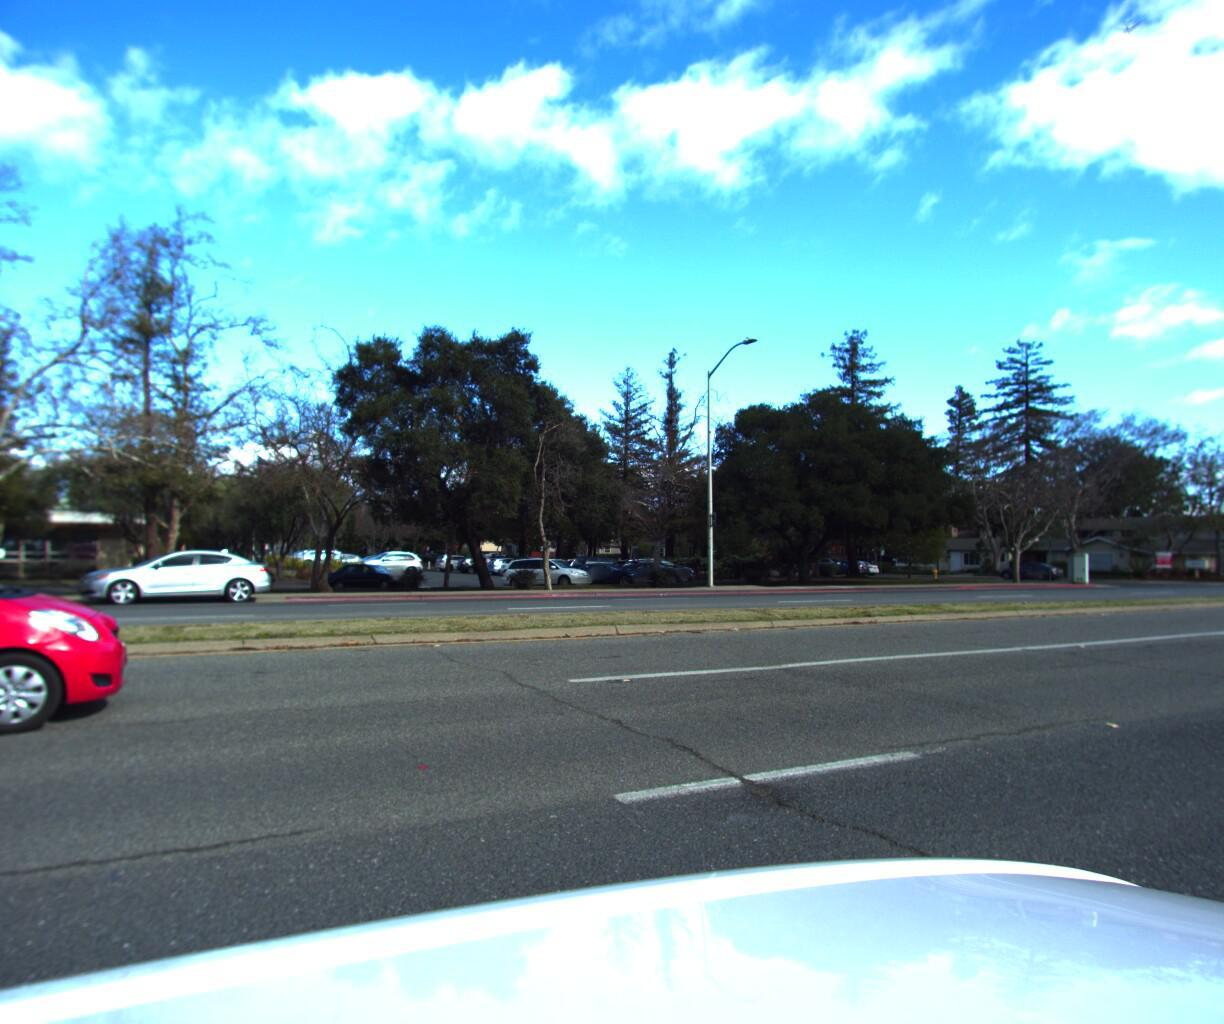car: (0, 506, 158, 792), (72, 543, 281, 610), (993, 548, 1063, 575), (817, 556, 871, 579), (831, 555, 881, 573)
